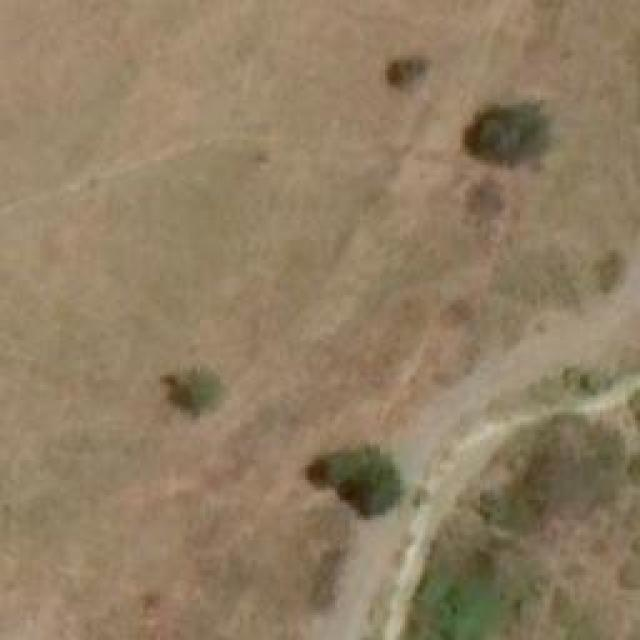Tree: (308, 443, 401, 518), (465, 98, 548, 161), (385, 53, 433, 96), (177, 375, 215, 410)
